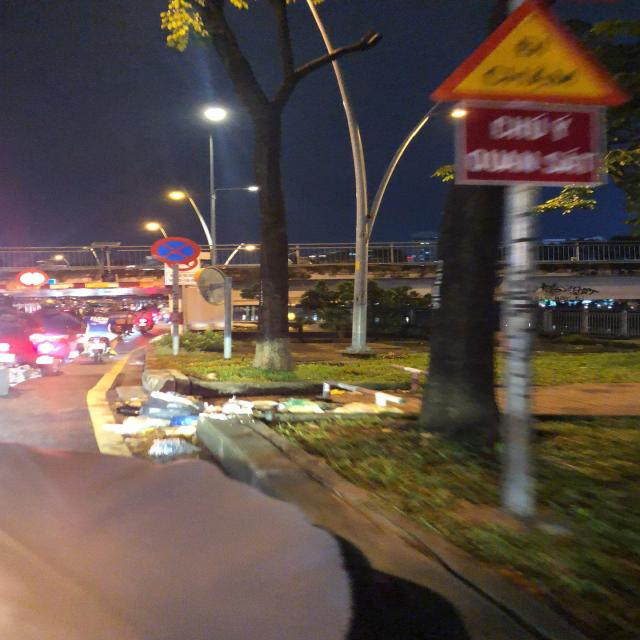Bien bao cam dung xe va do xe: (144, 231, 210, 268)
